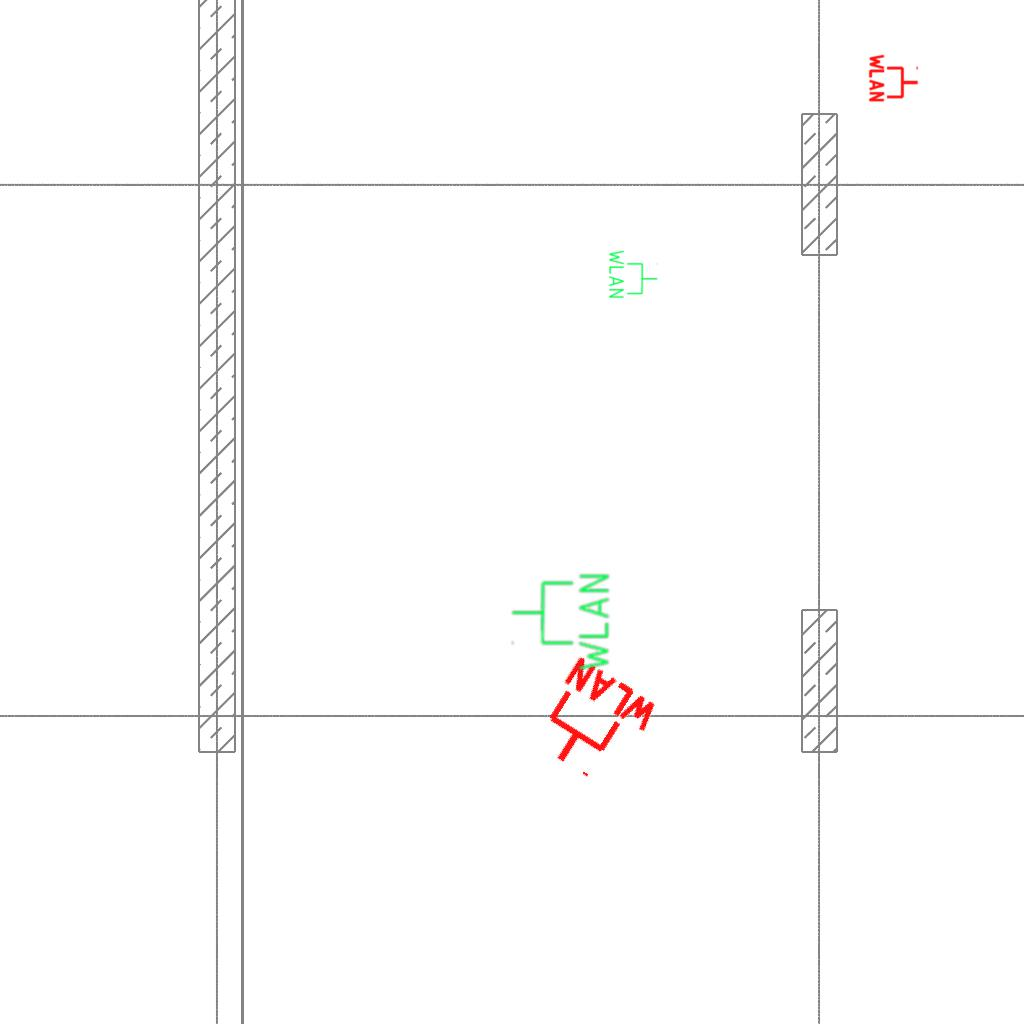WLAN: (521, 651, 666, 797), (509, 570, 613, 675), (607, 248, 659, 300), (868, 52, 920, 104)
